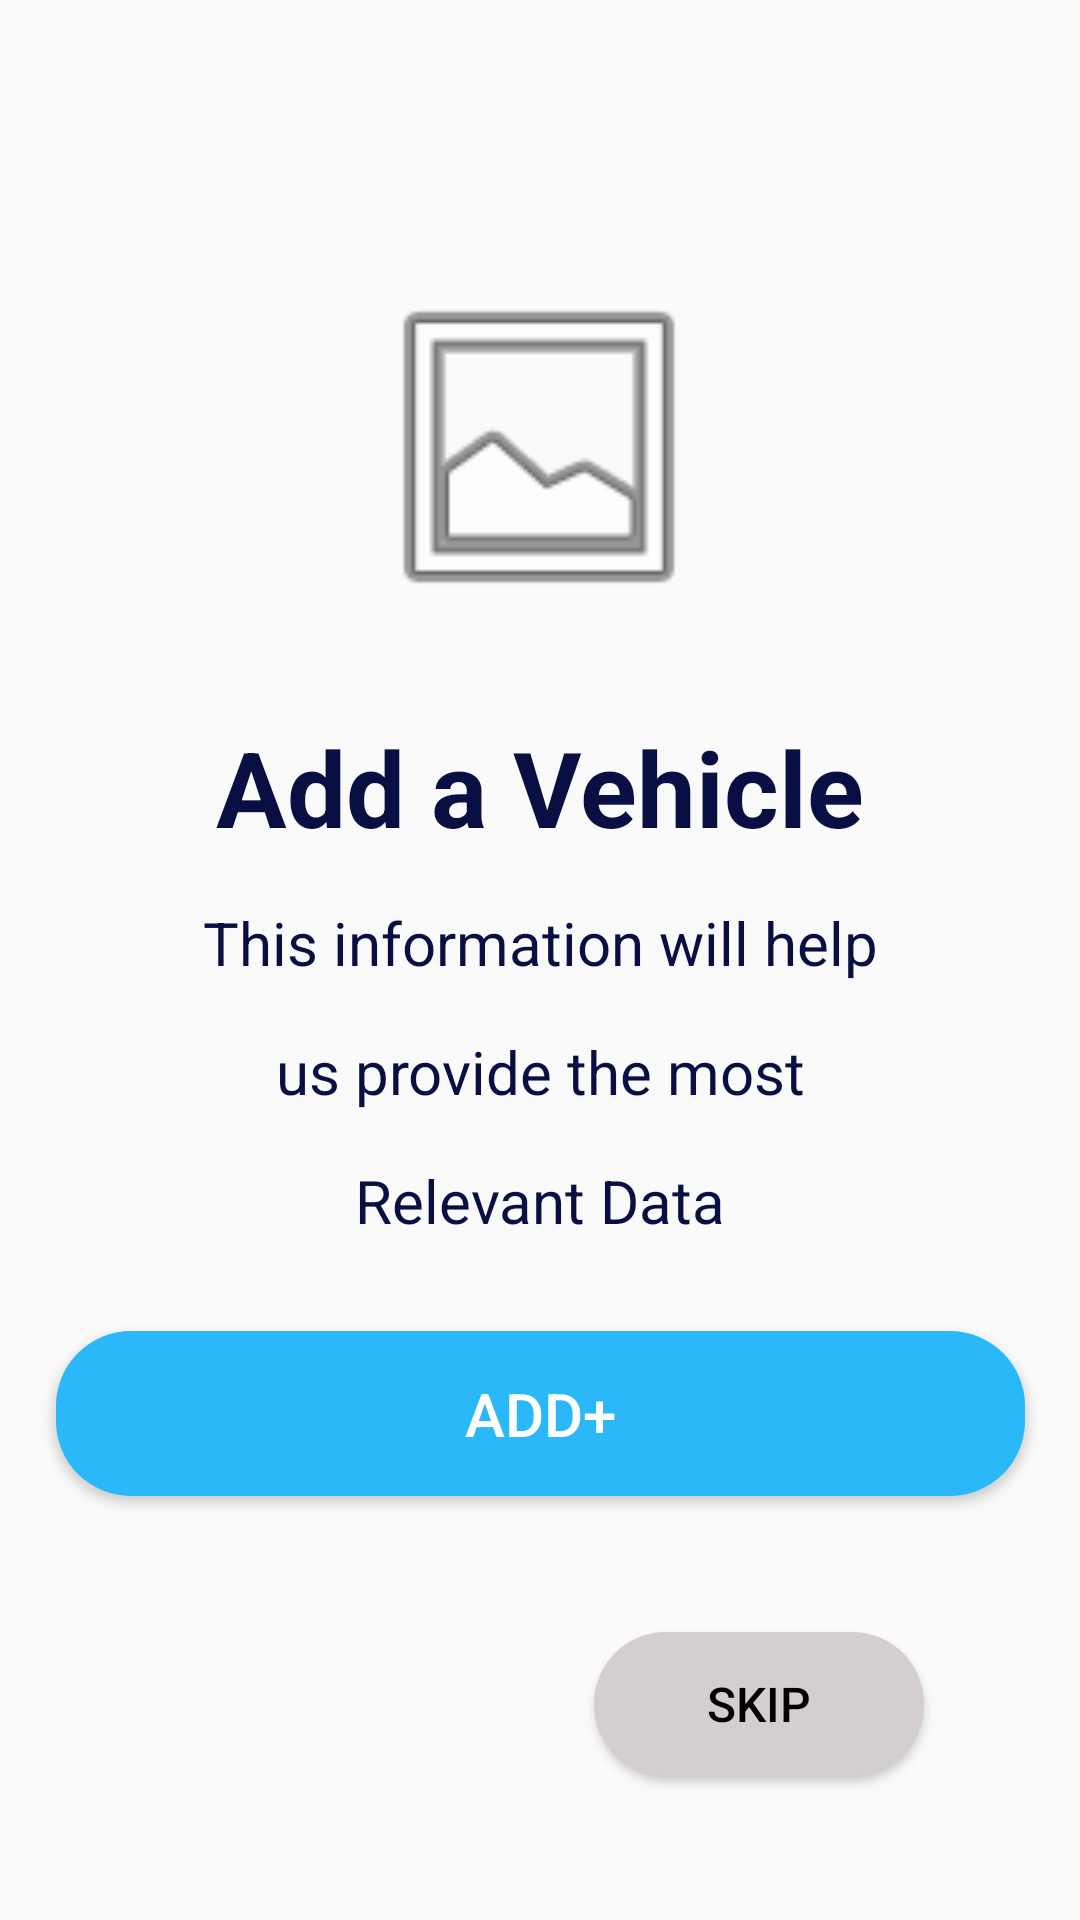

Icon click points for this 1080*1920 phone screenshot, format (x,y):
gallery: (539,447)
